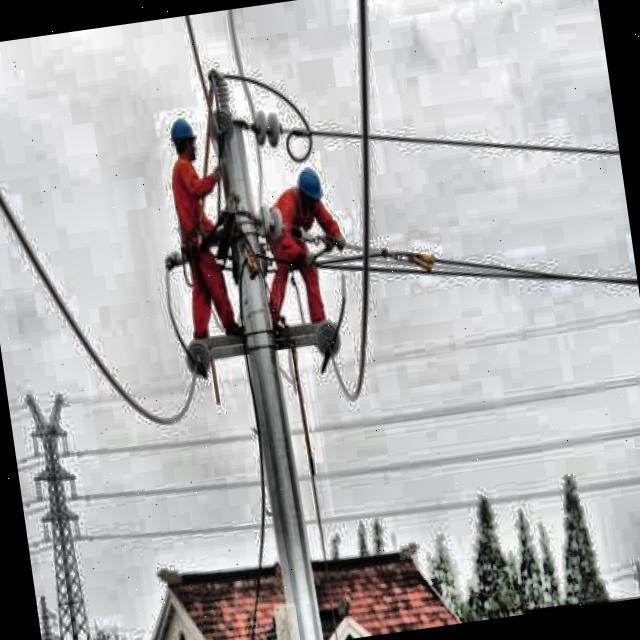helmet: (168, 115, 205, 167), (290, 160, 326, 212)
